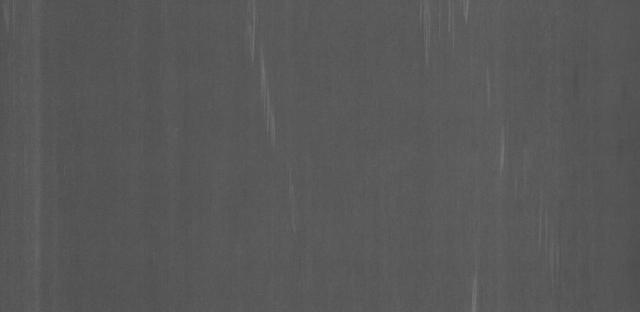silk_spot: (230, 14, 298, 134), (526, 200, 584, 266), (408, 2, 471, 58), (489, 106, 522, 184), (473, 246, 492, 311)
